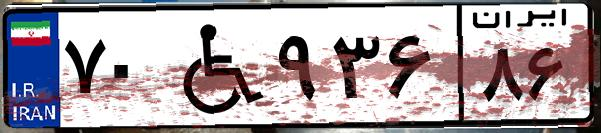0: (110, 28, 158, 98)
3: (330, 28, 385, 110)
6: (385, 28, 445, 110), (525, 38, 570, 115)
7: (57, 26, 110, 100)
8: (475, 38, 525, 113)
9: (270, 28, 330, 110)
ژ (معلولین و جانبازان): (158, 12, 270, 120)
